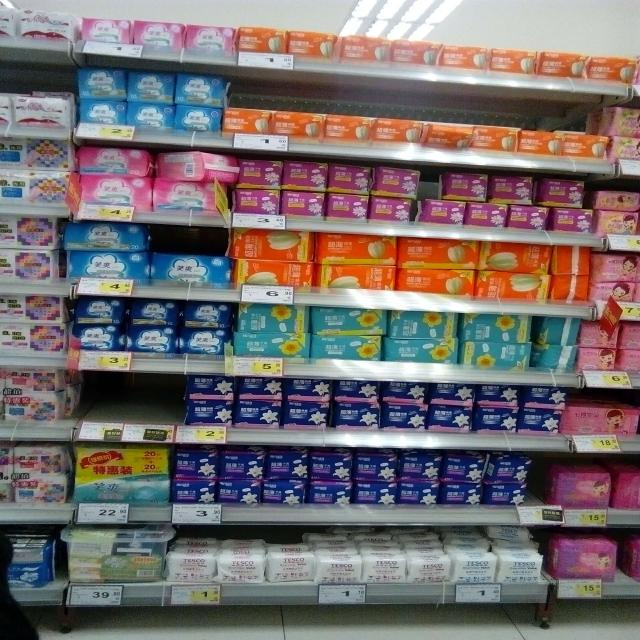void: (69, 368, 178, 424)
